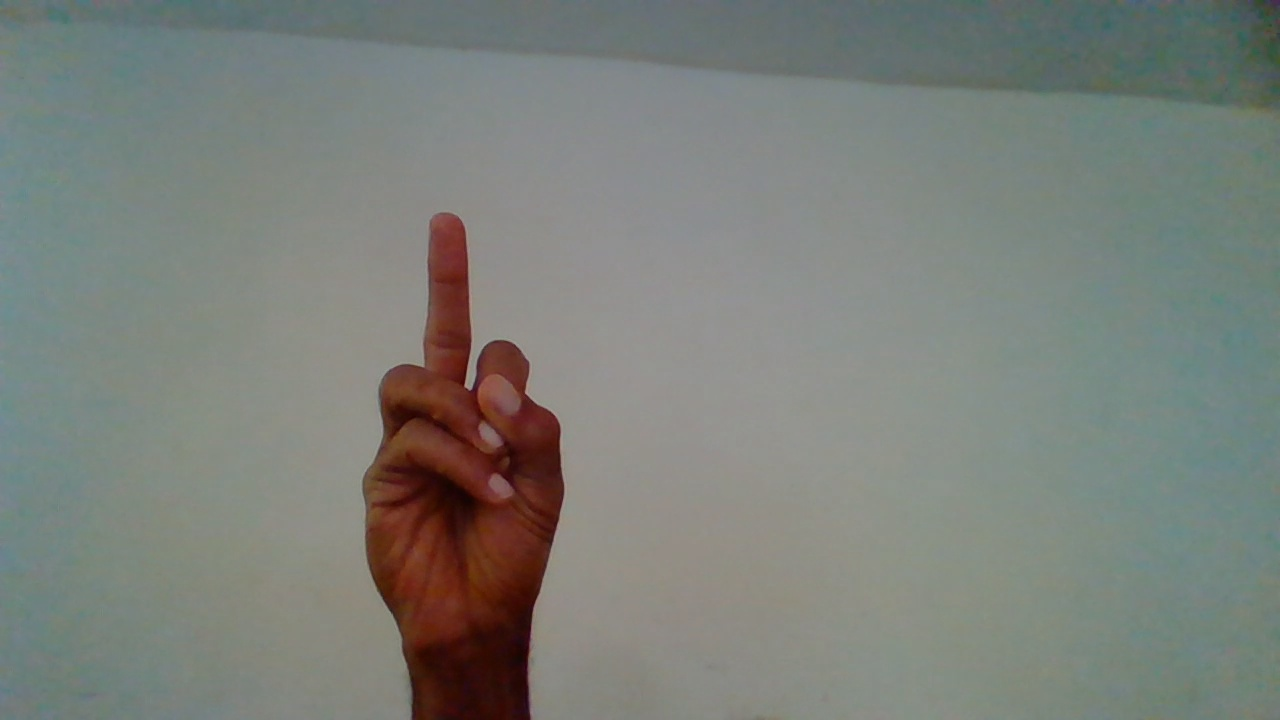he: (362, 210, 554, 719)
